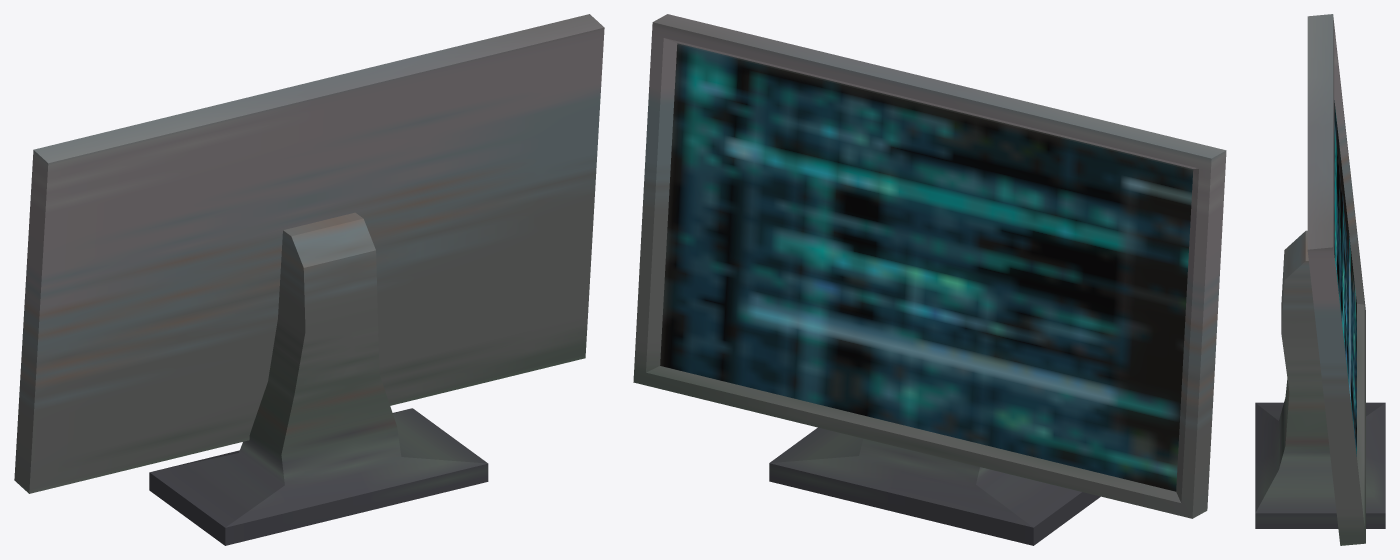
File: 06f92e94-f212-498e-8889-0f503adda518.glb
3 renders of one model, left to right at view 1: azimuth 30°, elevation 25°; view 2: azimuth 150°, elevation 25°; view 3: azimuth 270°, elevation 25°, orthographic. The views are drawn at different scales.
Visible parts, largest first — view 1: CommandCenterLikeFurnitureMonitor01; view 2: CommandCenterLikeFurnitureMonitor01; view 3: CommandCenterLikeFurnitureMonitor01.
Boxes of the visible parts, <box> form: CommandCenterLikeFurnitureMonitor01: <box>14,14,604,545</box>; CommandCenterLikeFurnitureMonitor01: <box>633,14,1226,545</box>; CommandCenterLikeFurnitureMonitor01: <box>1255,14,1385,545</box>.
Size of what is drawn, in the model's own units: 1.23 by 0.8452 by 0.2909.
Materials: 1 (1 with a texture image).
